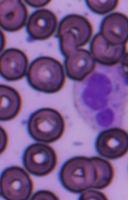N: (74, 64, 128, 132)
